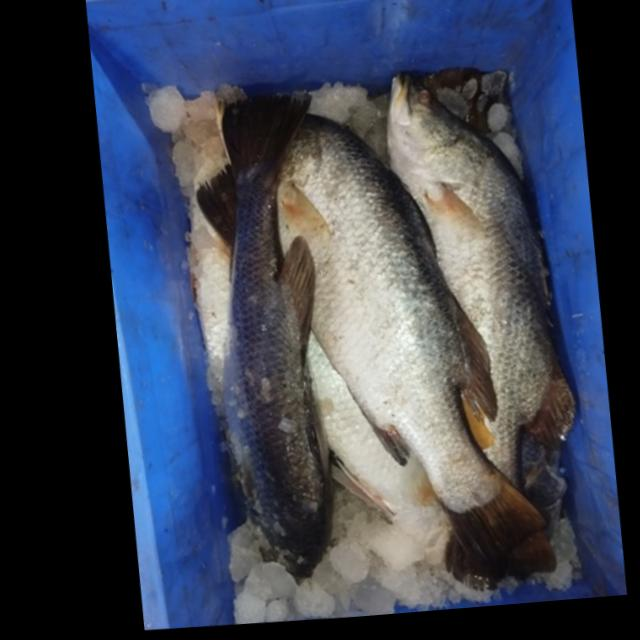Seabass: (257, 97, 555, 581), (371, 59, 594, 504), (183, 85, 366, 584)
